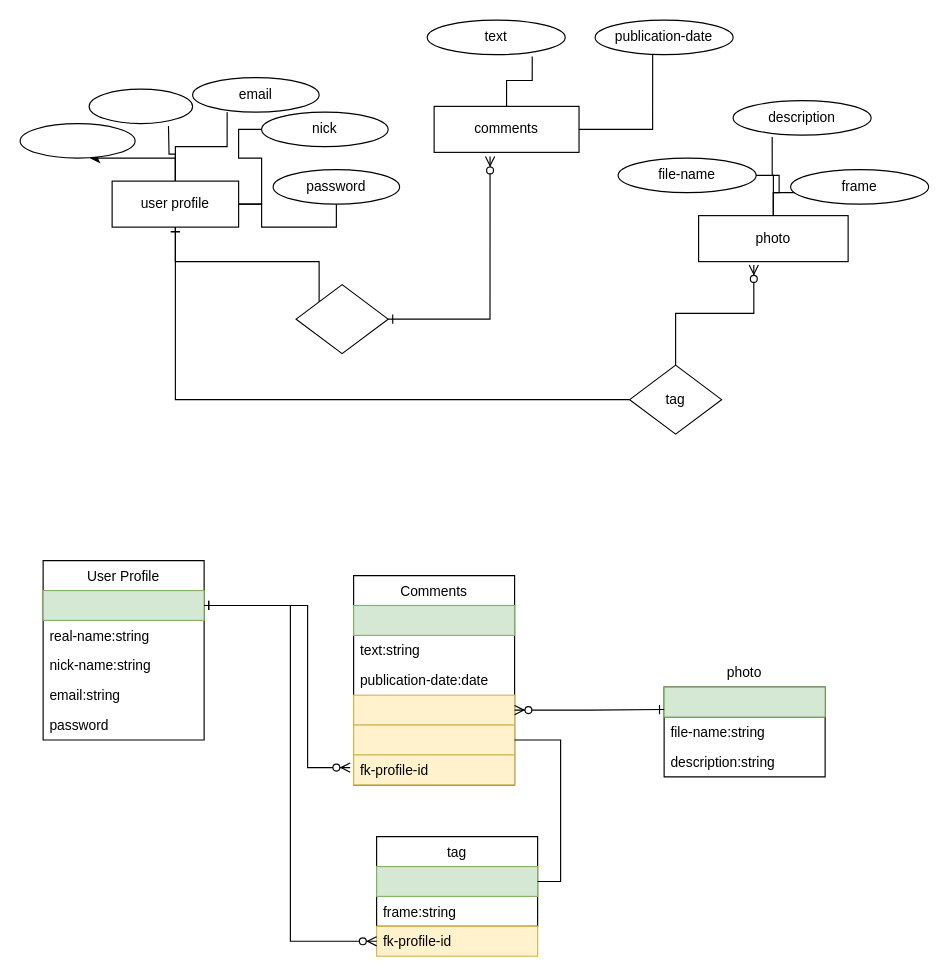
Some shapes in this 949 by 980 pixel diagram are drawn without their labels. Here are the shapes that lost their labels. From the top down, the box of each, then its label:
(88, 88, 193, 124): real-name
(19, 122, 135, 158): user-id
(295, 283, 388, 354): comment
(42, 589, 204, 620): profile-id:int
(352, 604, 515, 635): comments-id
(352, 694, 515, 725): fk-photo-id
(663, 686, 825, 717): photo-id:int
(352, 724, 515, 755): fk-tag-id
(375, 865, 538, 896): tag-id
